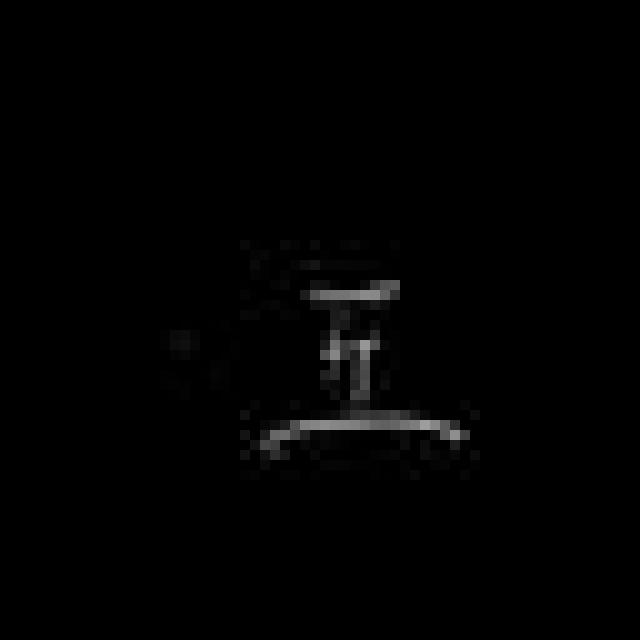5 -five-: (249, 269, 473, 459)
